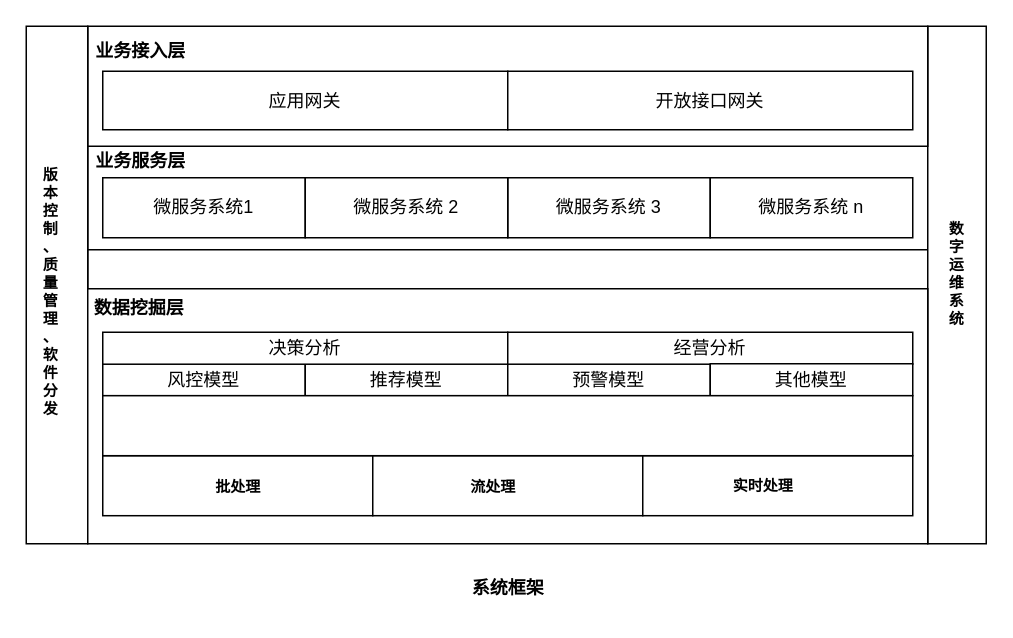
Image size: 1013x638. Some labels were removed from this diagram. The centre of each missing label's shape, as x and y in pixels:
业务存储层: point 507,268
算法: point 507,425
